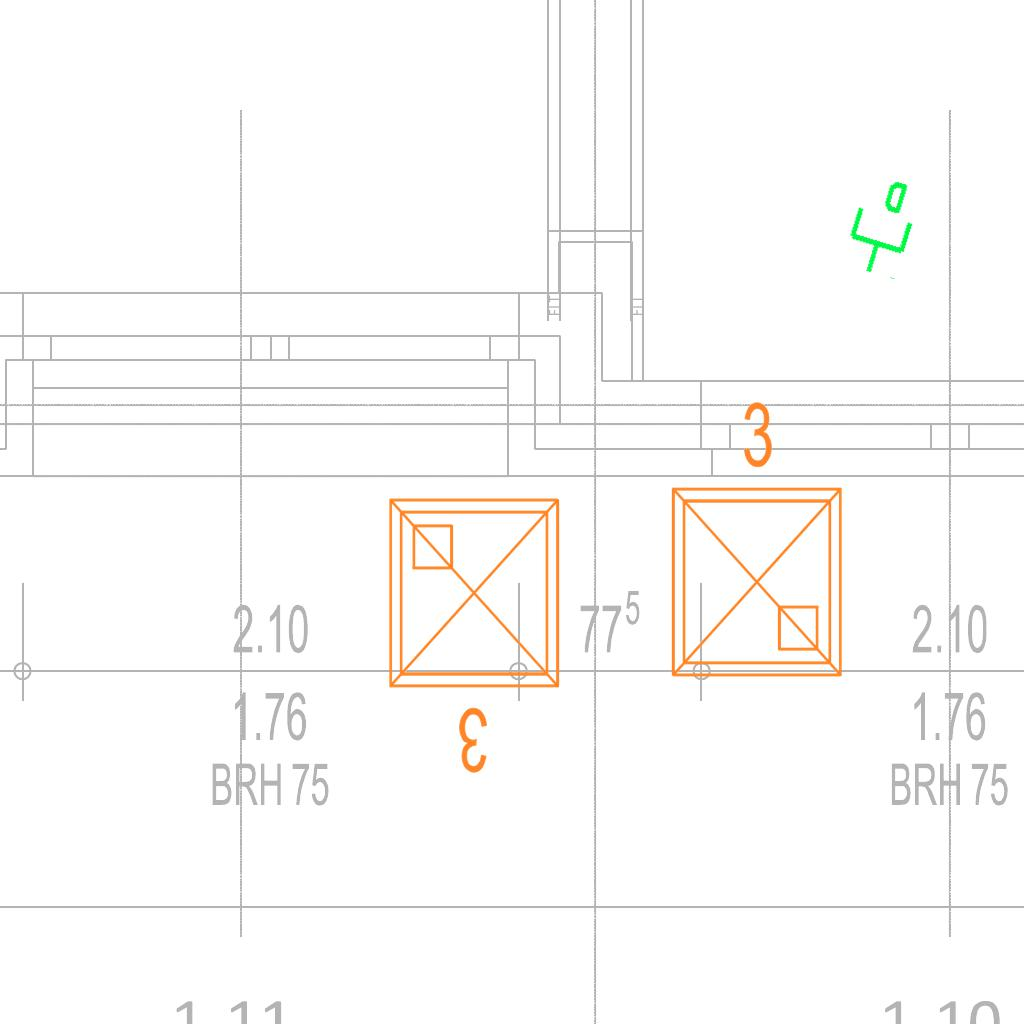Datenanschluss_einfach: (832, 168, 929, 284)
Einbaudownlights_LED_Konferenzraeume: (649, 391, 857, 691), (374, 484, 582, 784)
